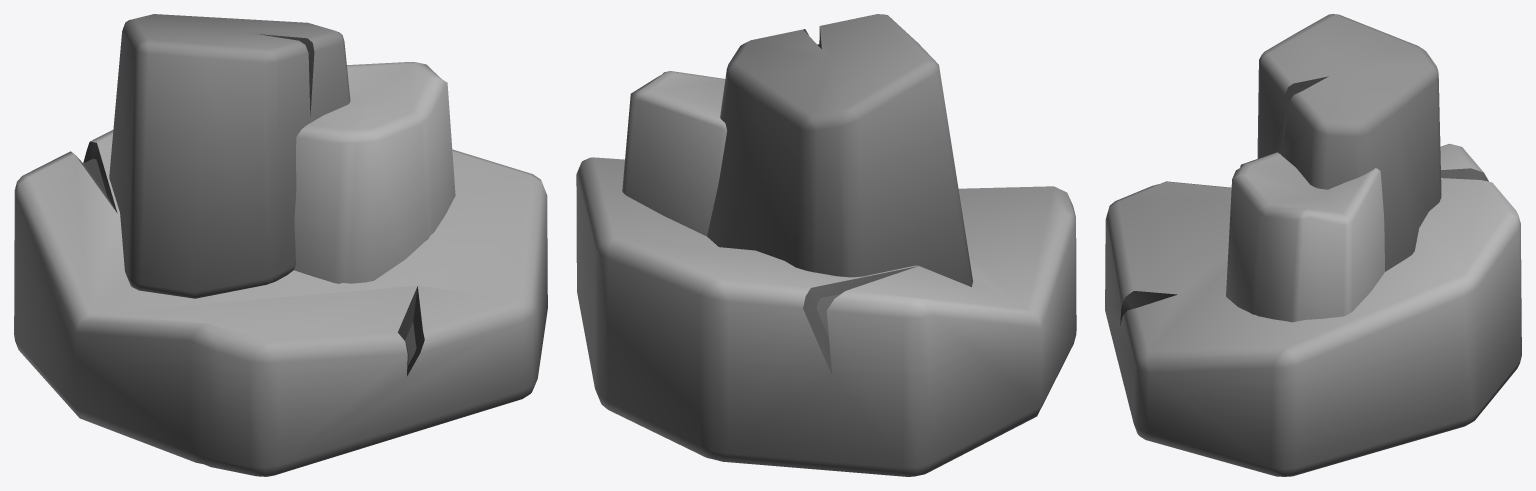
The model's file is Rock_Triple_01.fbx.
3 views of the same model, side by side, from view 1: azimuth 30°, elevation 25°; view 2: azimuth 150°, elevation 25°; view 3: azimuth 270°, elevation 25° (orthographic). The views are drawn at different scales.
Parts seen in each view (by area): view 1: Rock_Triple_01; view 2: Rock_Triple_01; view 3: Rock_Triple_01.
Part boxes in pixels (x1,y1,x2,y2): Rock_Triple_01: (14, 14, 547, 476); Rock_Triple_01: (576, 14, 1076, 476); Rock_Triple_01: (1105, 14, 1521, 476).
Bounding box in the file's own units: 332 × 239 × 293.
